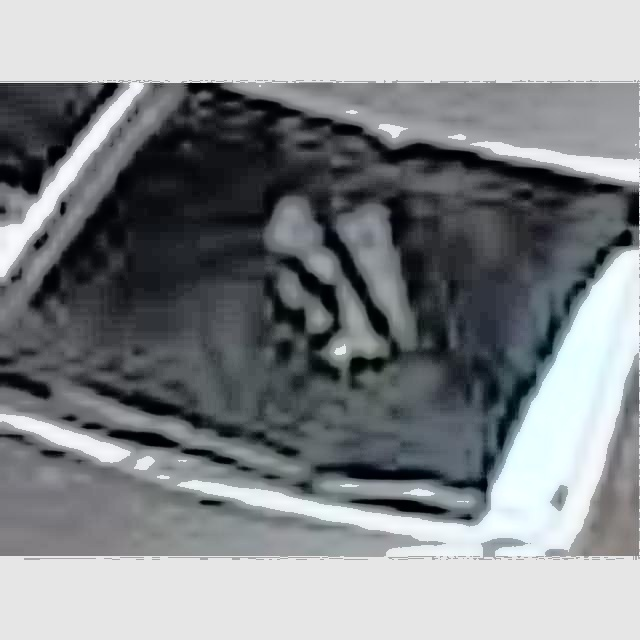pakai: (199, 149, 449, 391)
